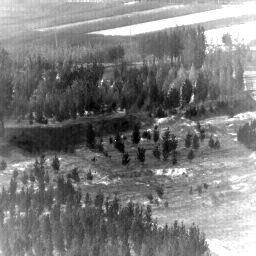aircraft: (114, 140, 116, 142)
